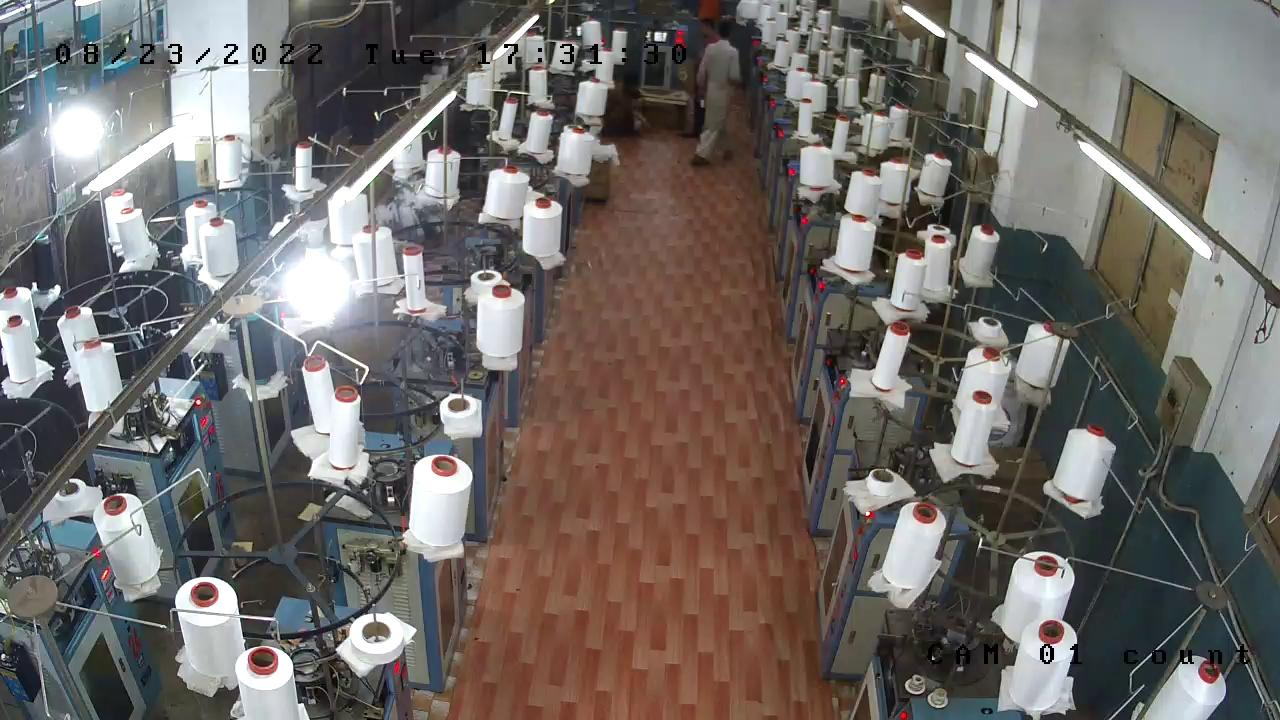person: (697, 31, 737, 160)
